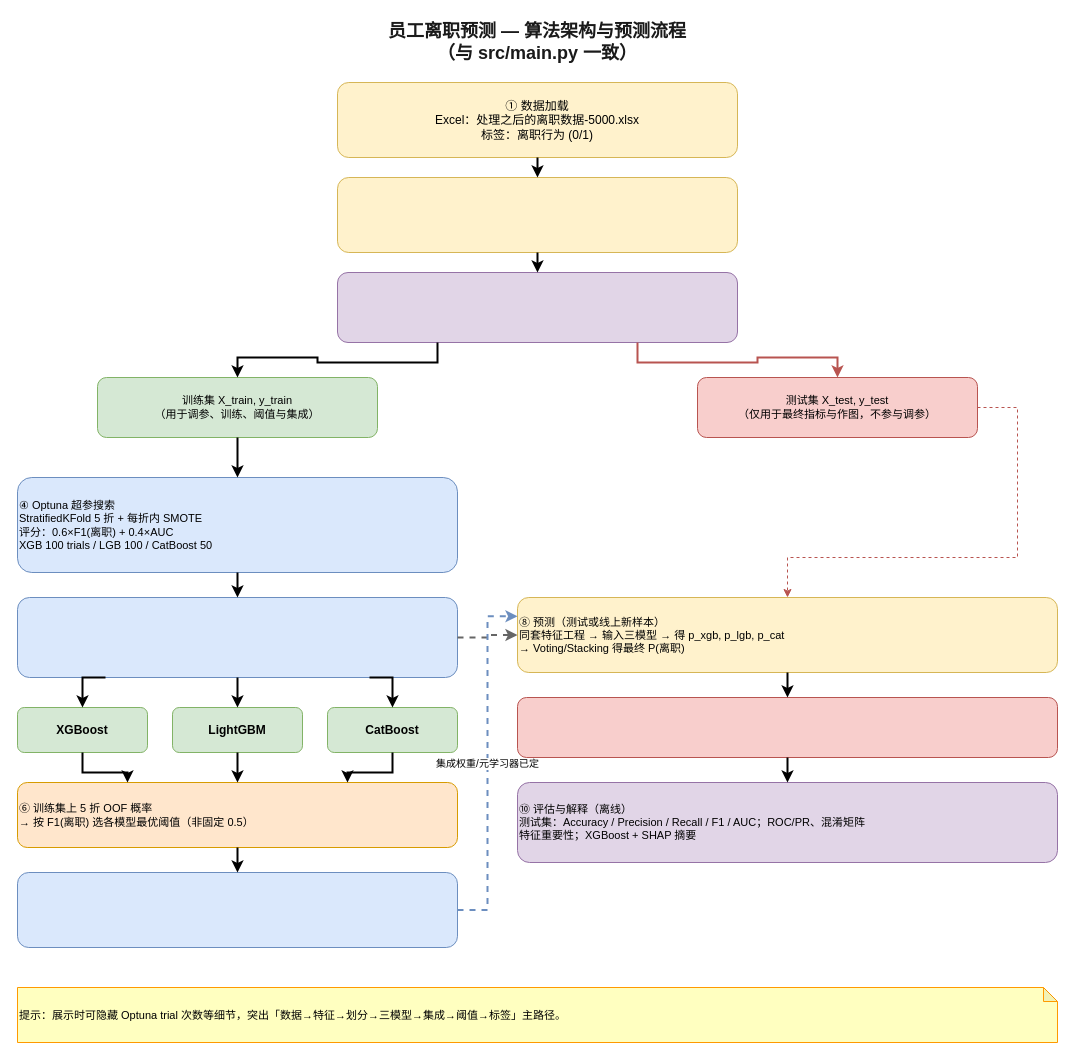
This 1075x1060 diagram has some shape labels left out. The shapes that lost their labels are listed below. From the top down, each one's centre as x and y in pixels, then its label:
At point (537, 214): "② 特征工程 原始 13 维 + 构造 7 维（交互项、差值、比值等） → 约 20 维特征矩阵 X".
At point (537, 307): "③ 划分数据集 train_test_split：80% 训练 / 20% 测试 stratify=离职行为，random_state=42".
At point (237, 637): "⑤ 固定最优超参后 对全训练集 SMOTE → 训练三个最终基模型 CatBoost 指定类别特征列（性别、地区等）".
At point (787, 727): "⑨ 二分类决策 若 P ≥ 阈值 τ（Voting/Stacking 各有对应 τ）→ 预测「离职」；否则「不离职」".
At point (237, 910): "⑦ 集成 Voting：三模型 P(离职) 算术平均 Stacking：三维概率 → LogisticRegression 元学习器".
